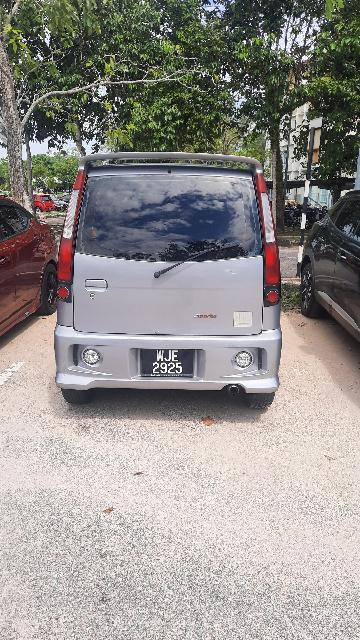License_Plate: (138, 343, 203, 382)
car: (49, 144, 287, 414)
